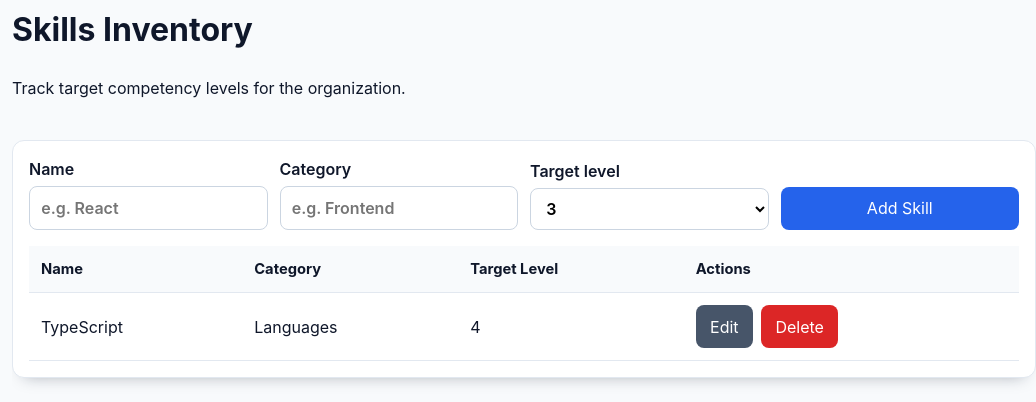
Test: SkillsPage › deletes a skill
Check: the text "TypeScript" is shown, box [29,293,242,361]
Click the button with test id "delete-skill-1".
click(800, 327)  # box [761,305,838,348]
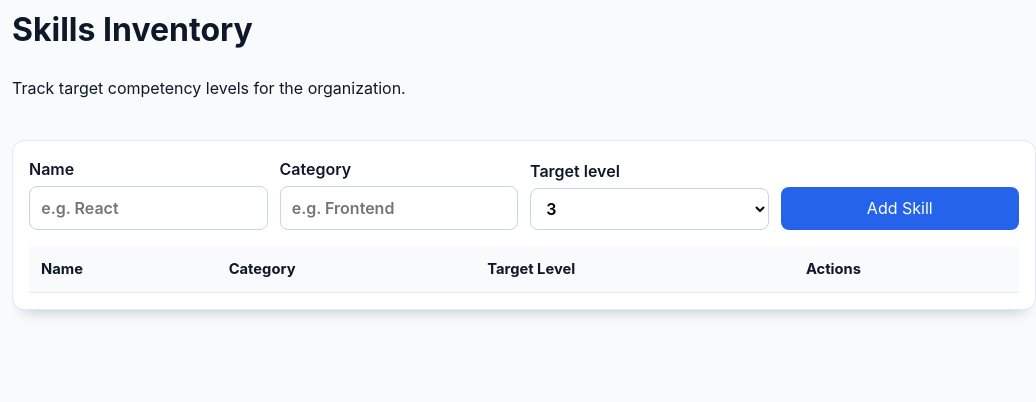
Check: the text "TypeScript" is gone
